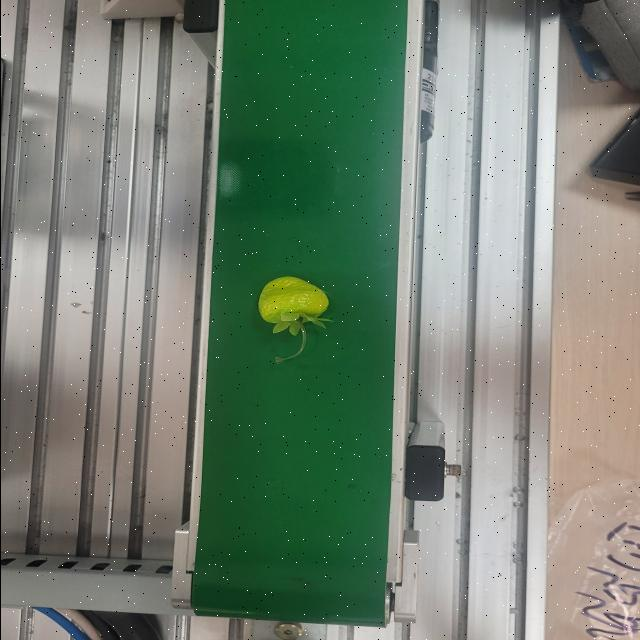Small Unripe Strawberry: (252, 274, 336, 364)
